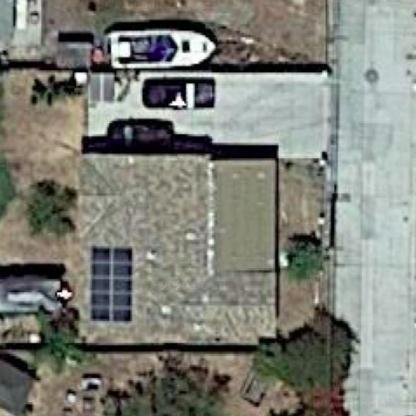car: (138, 76, 222, 111), (104, 116, 176, 144)
solar_panel: (87, 240, 144, 327)
